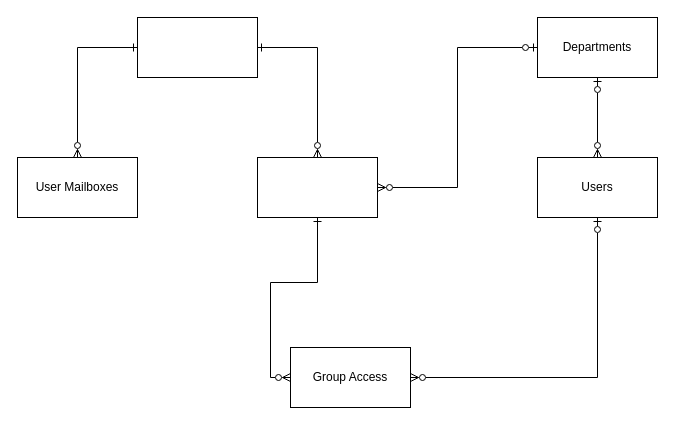
Some shapes in this 675 by 425 pixel diagram are drawn without their labels. The box of each missing label's shape, as (x1, y1, x2, y2) in pixels:
Domains: (136, 16, 258, 78)
Group Mailboxes: (256, 156, 378, 218)
